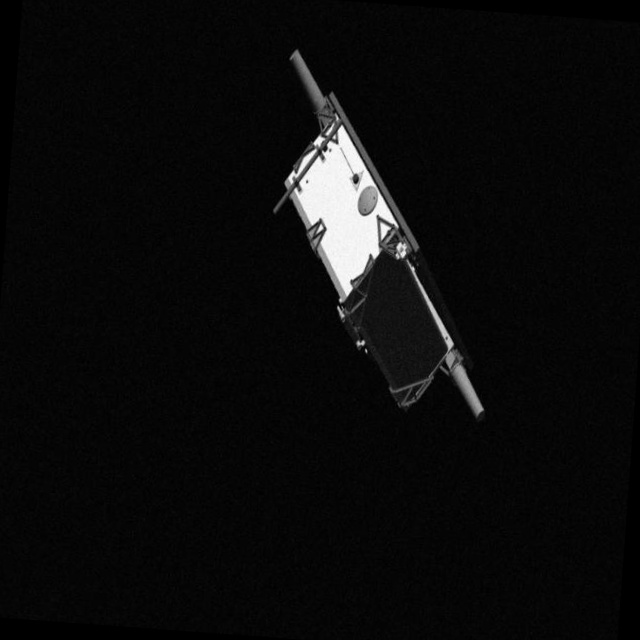satellite: (247, 32, 524, 431)
